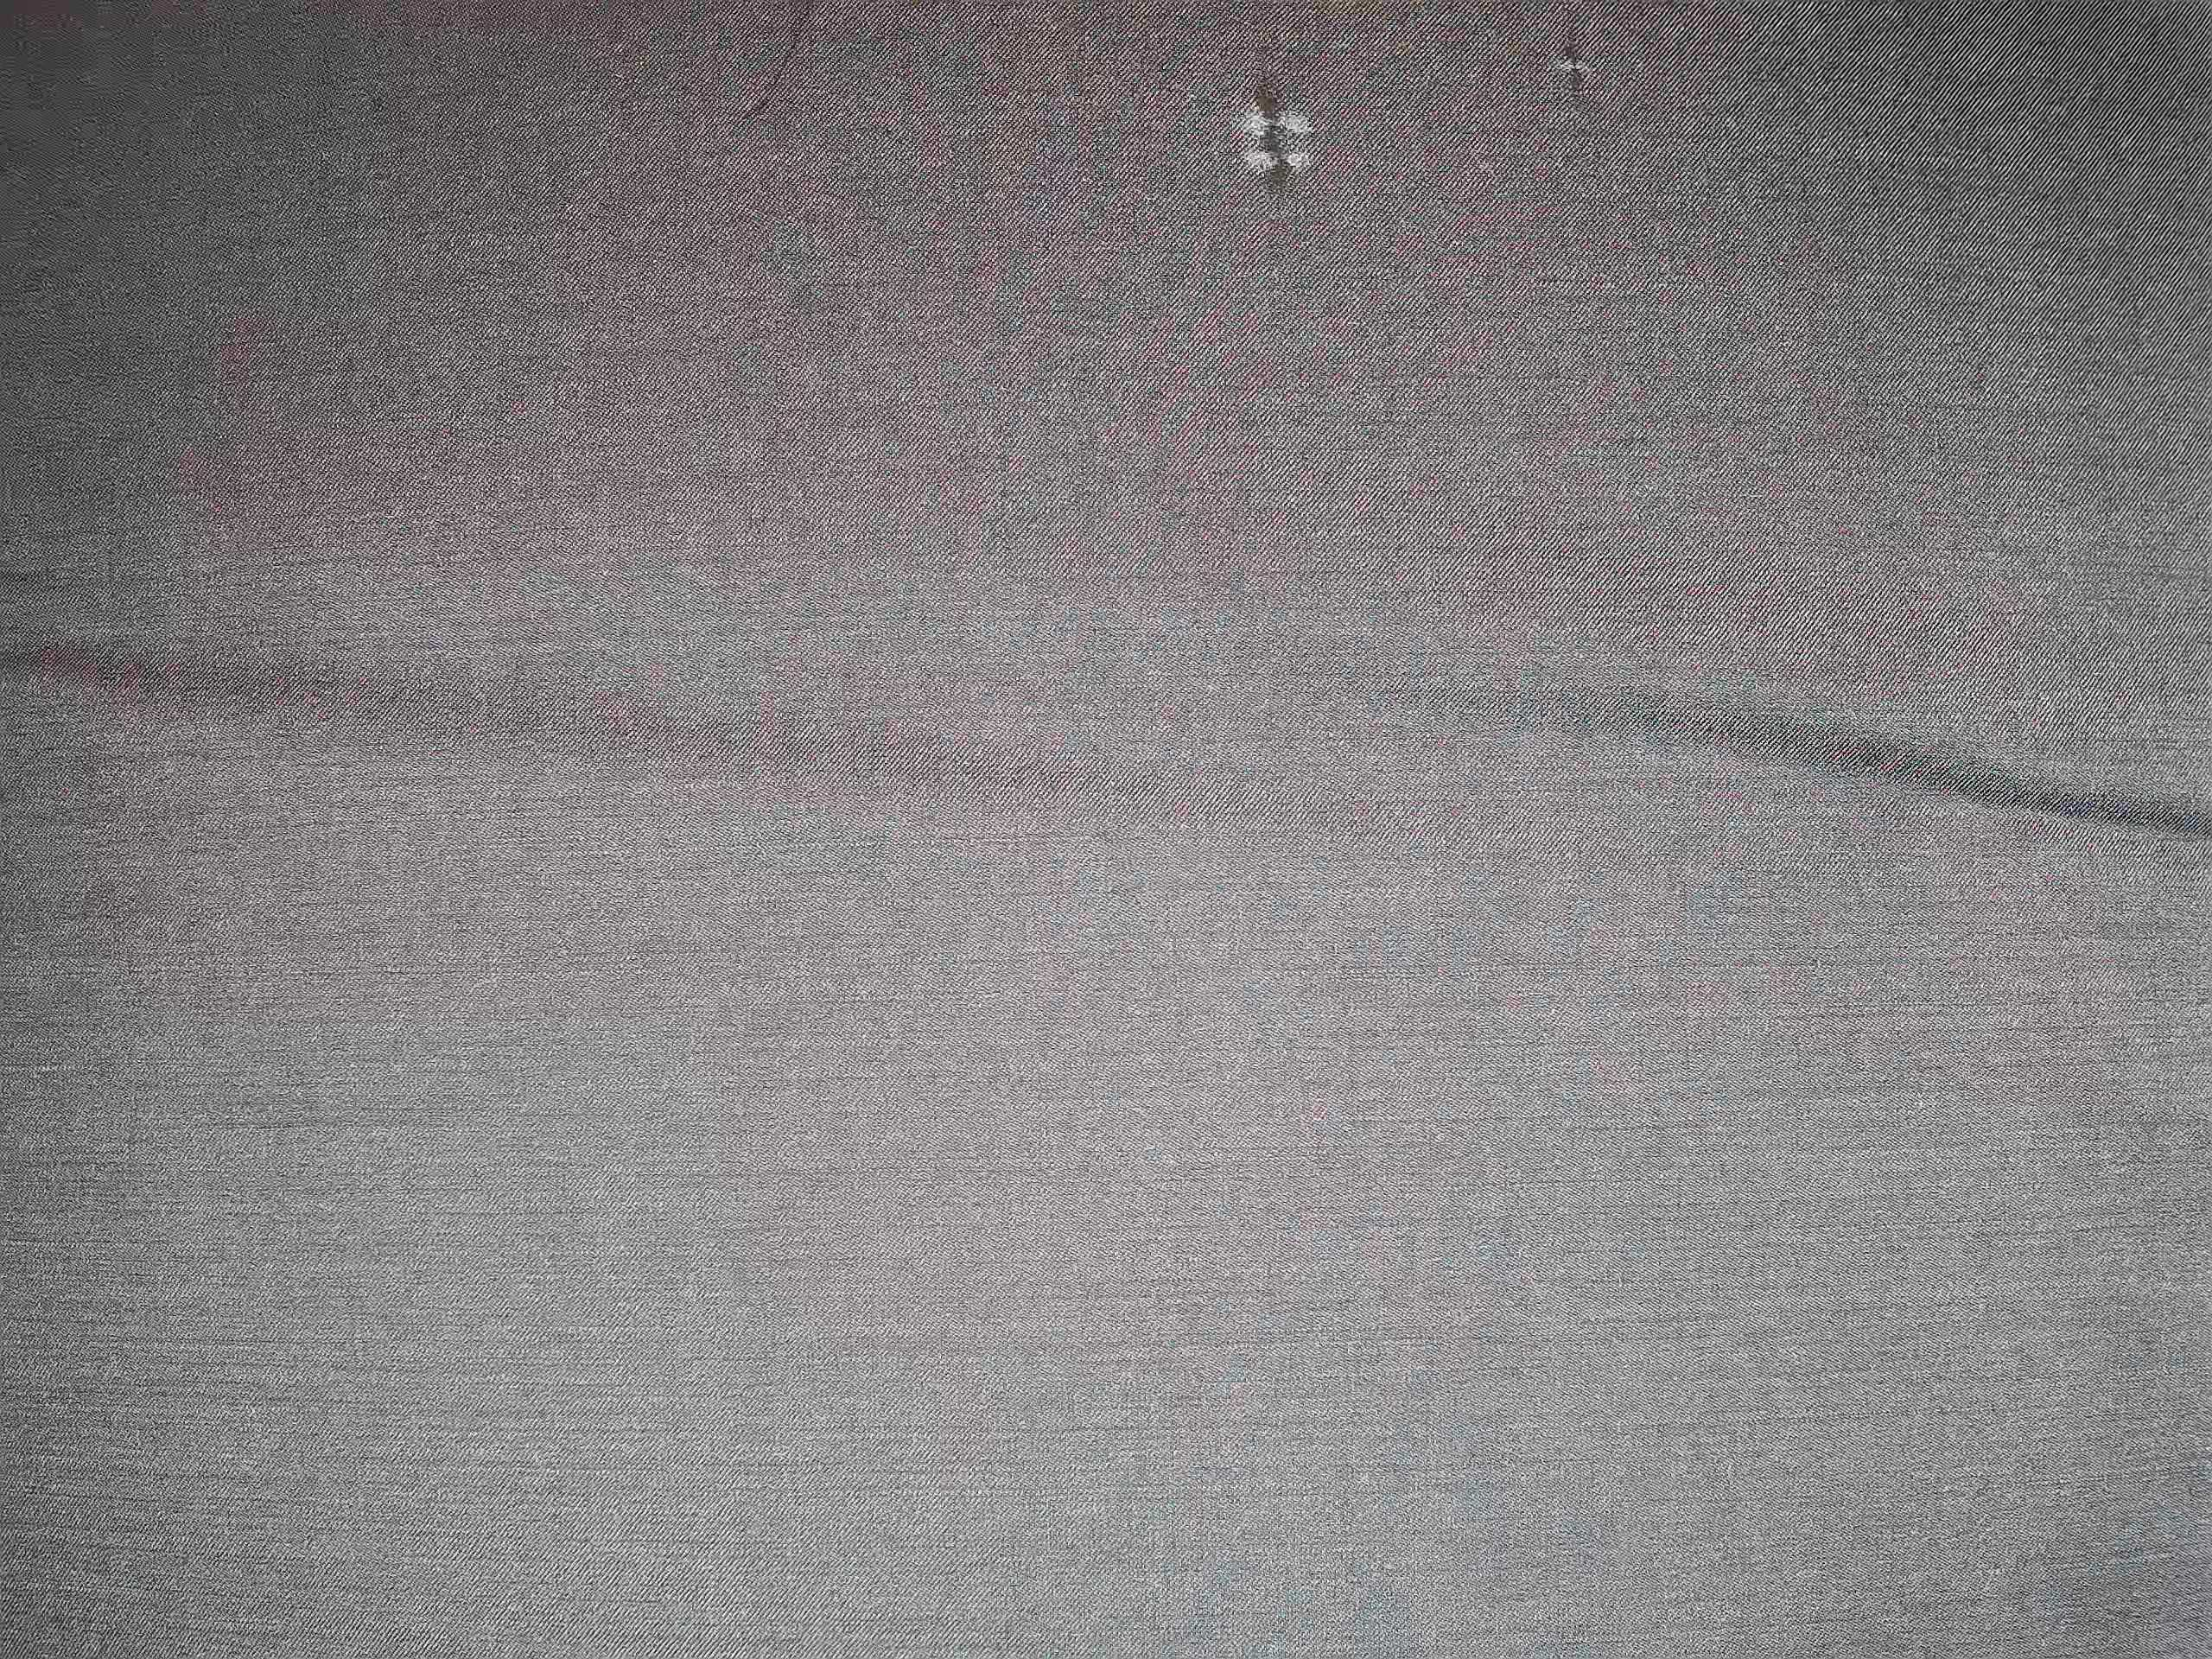brushed-hole: (1216, 70, 1334, 204), (1543, 14, 1615, 118)
